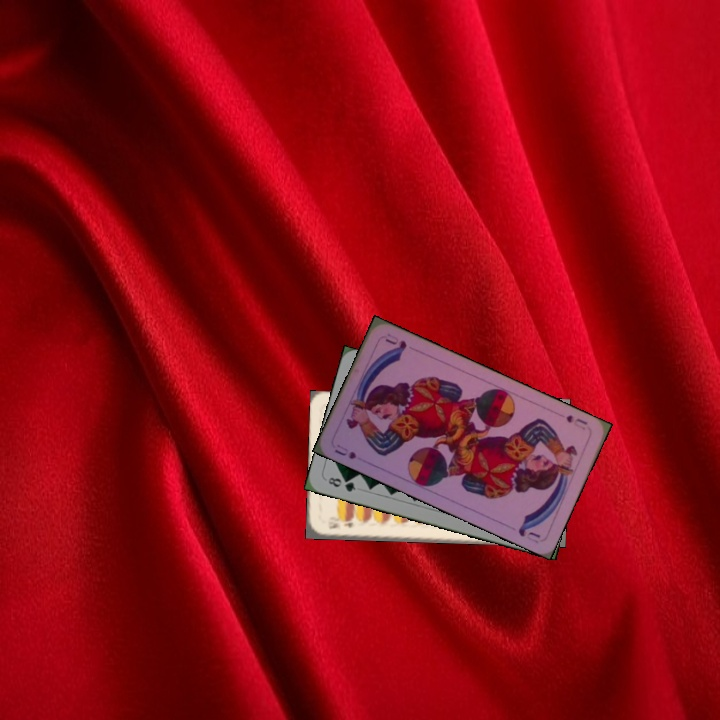E10: (324, 515, 355, 532)
G8: (324, 473, 358, 495)
SU: (330, 440, 359, 462), (561, 411, 590, 431)
